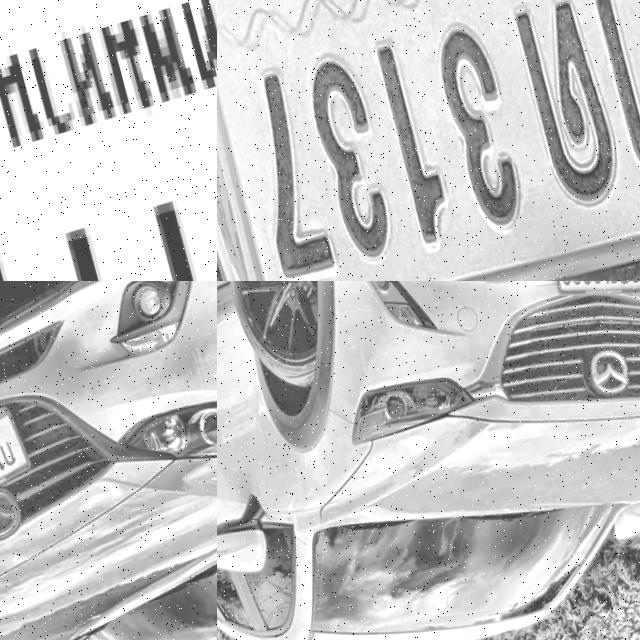license-plate: (217, 0, 640, 281), (0, 0, 217, 281), (537, 281, 640, 328), (0, 401, 36, 514)
